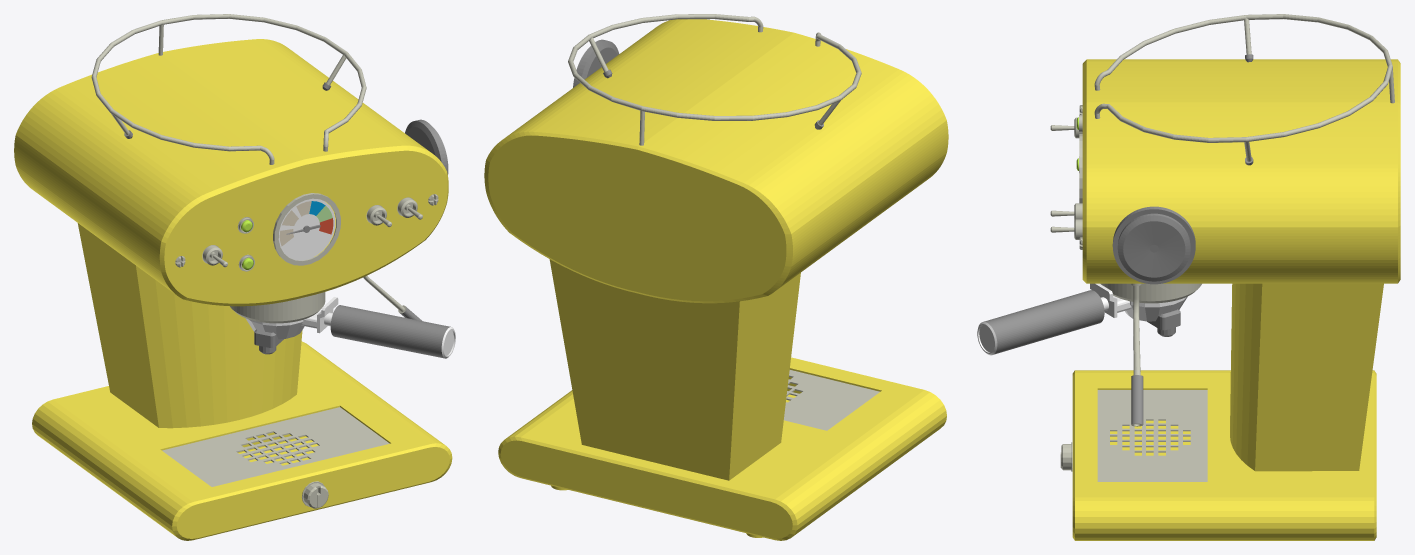
File: martanda_francisfrancis_x1.gltf
3 renders of one model, left to right at view 1: azimuth 30°, elevation 25°; view 2: azimuth 150°, elevation 25°; view 3: azimuth 270°, elevation 25°, orthographic. The views are drawn at different scales.
Visible parts, largest first — view 1: francis_x1.001, partes.001, filtro.001, plastico.001; view 2: francis_x1.001, partes.001, plastico.001; view 3: francis_x1.001, partes.001, filtro.001, plastico.001.
Boxes of the visible parts, <box> form: francis_x1.001: <box>14,39,452,540</box>; partes.001: <box>91,14,438,508</box>; filtro.001: <box>245,297,455,358</box>; plastico.001: <box>124,82,448,260</box>; francis_x1.001: <box>484,19,948,540</box>; partes.001: <box>568,14,879,430</box>; plastico.001: <box>573,39,823,129</box>; francis_x1.001: <box>1072,59,1400,540</box>; partes.001: <box>1050,14,1394,481</box>; filtro.001: <box>977,283,1187,355</box>; plastico.001: <box>1112,54,1253,284</box>.
Size of the model in its own units: 0.2942 by 0.3602 by 0.3308.
